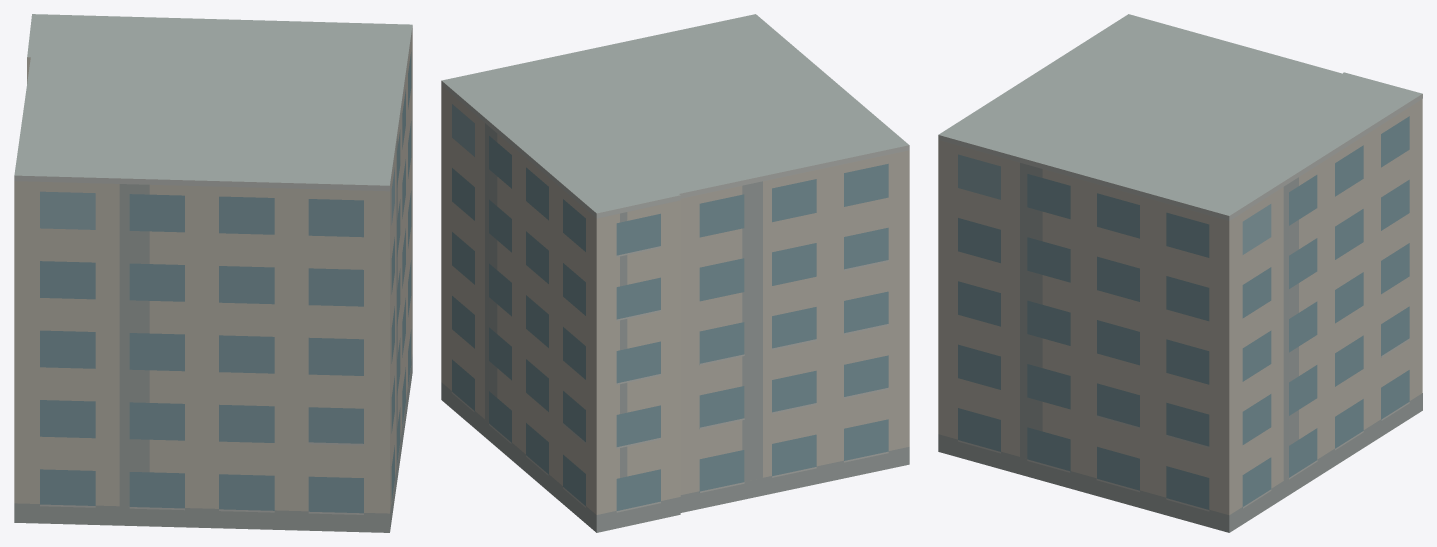
Rendered from survey-upis-32626718.glb.
3 renders of one model, left to right at view 1: azimuth 30°, elevation 25°; view 2: azimuth 150°, elevation 25°; view 3: azimuth 270°, elevation 25°, orthographic. The views are drawn at different scales.
Parts seen in each view (by area): view 1: survey-upis-32626718.tmp; view 2: survey-upis-32626718.tmp; view 3: survey-upis-32626718.tmp.
Part boxes in pixels (x1=…): survey-upis-32626718.tmp: x1=14, y1=14, x2=412, y2=532; survey-upis-32626718.tmp: x1=441, y1=14, x2=909, y2=532; survey-upis-32626718.tmp: x1=938, y1=14, x2=1422, y2=532.
Size of the model in its own units: 20.92 by 15.3 by 21.21.
